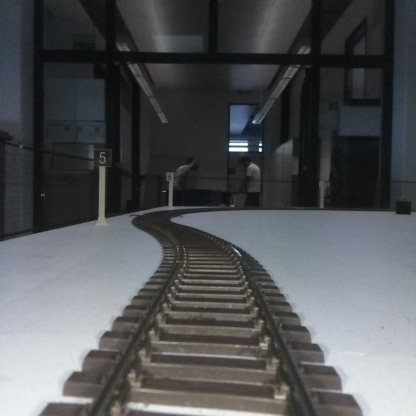black-info-3: (94, 149, 111, 225)
white-info-6: (166, 171, 174, 207)
